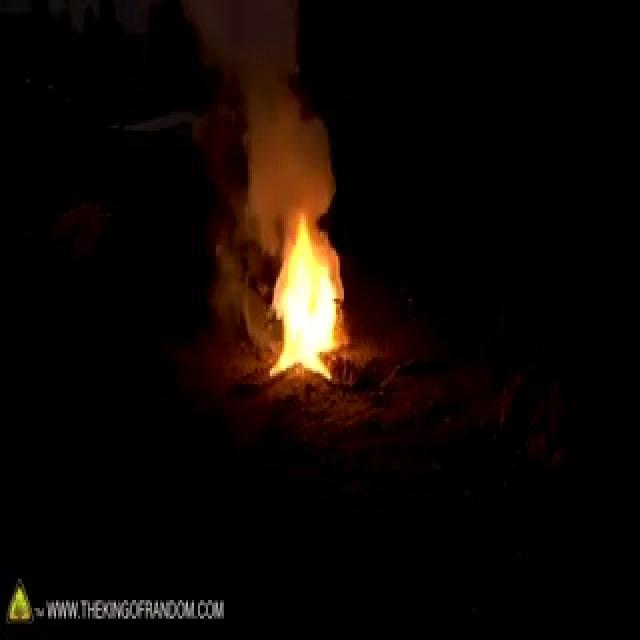fire: (268, 197, 354, 384)
